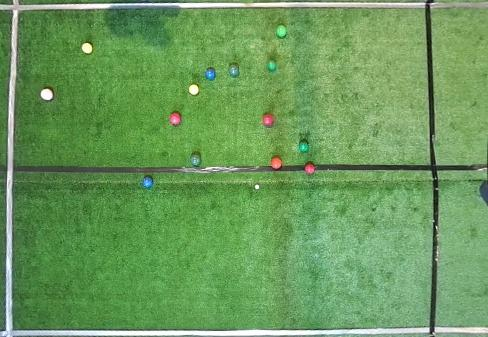blue: (205, 68, 216, 80), (142, 176, 153, 188)
green: (228, 64, 239, 77), (276, 25, 287, 38), (190, 154, 201, 165), (299, 141, 308, 152), (267, 60, 276, 71)
red: (40, 89, 54, 101), (262, 114, 274, 126), (271, 157, 282, 170), (170, 113, 181, 125), (304, 163, 315, 174)
vline: (425, 0, 487, 336), (0, 0, 21, 336)
white: (255, 185, 259, 190)
yellow: (81, 43, 93, 54), (189, 84, 200, 95)
